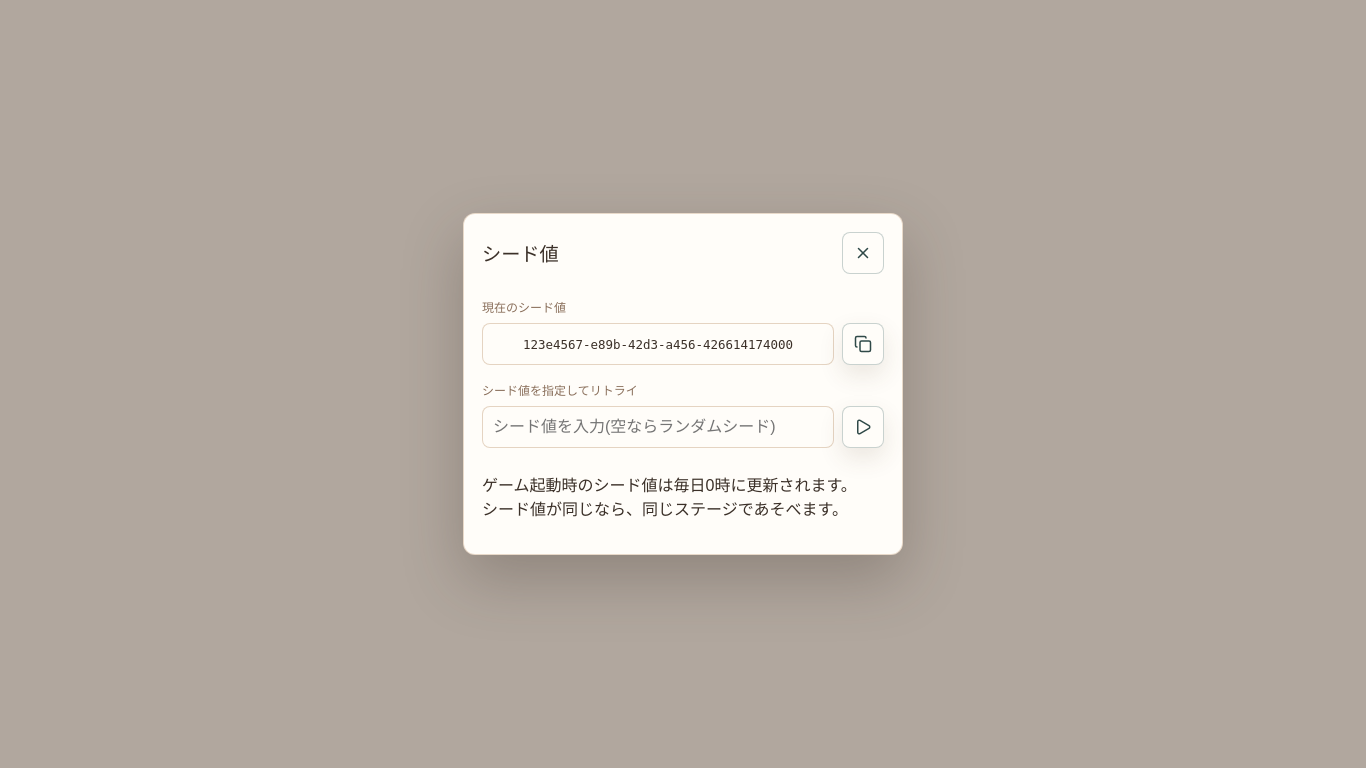
Scenario: SeedModal › disables retry and explains invalid UUID input
Type "invalid" into the field with placeholder "シード値を入力(空ならランダムシード)" at {"x": 658, "y": 427}, box [482,406,834,448]
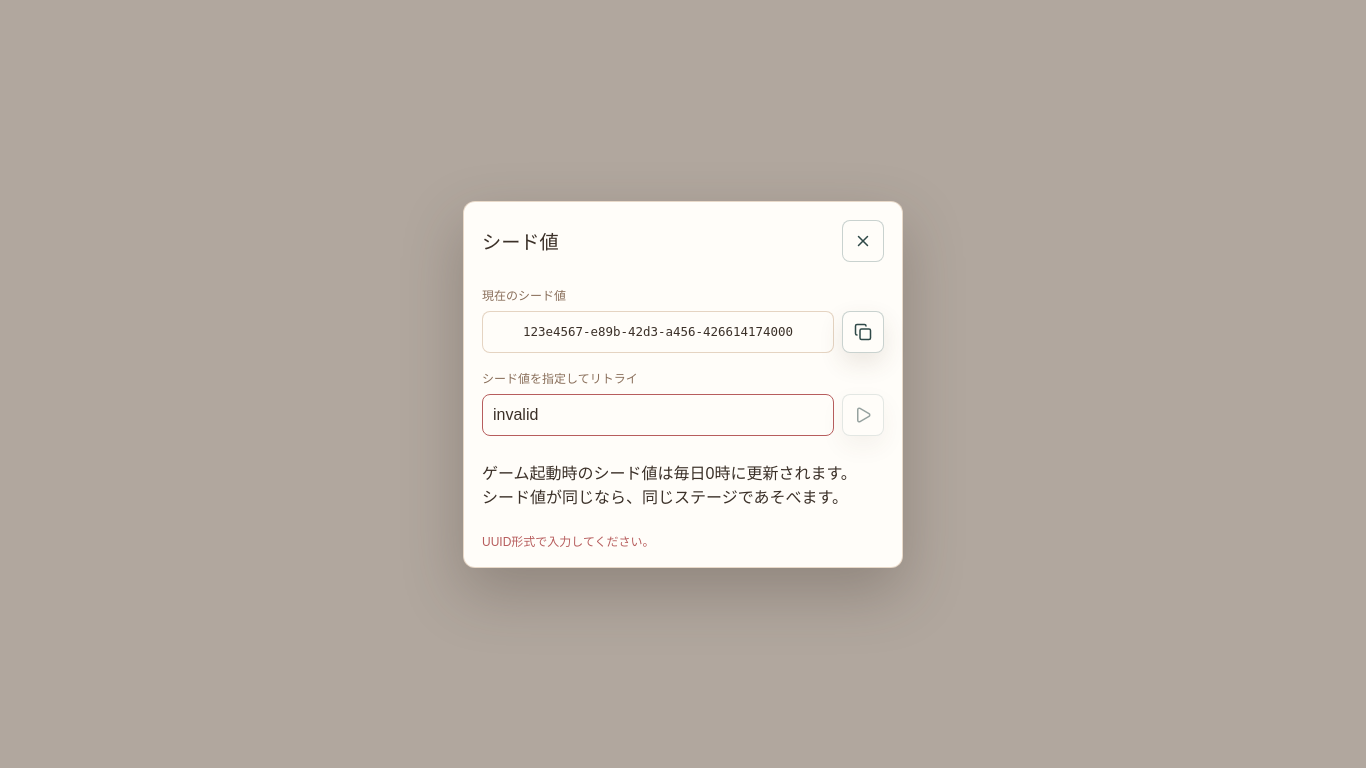
Result: the text "UUID形式で入力してください。" is shown at [482,534,655,548]
Result: the button named "指定したシード値でリトライする" is disabled at [842,394,884,436]
